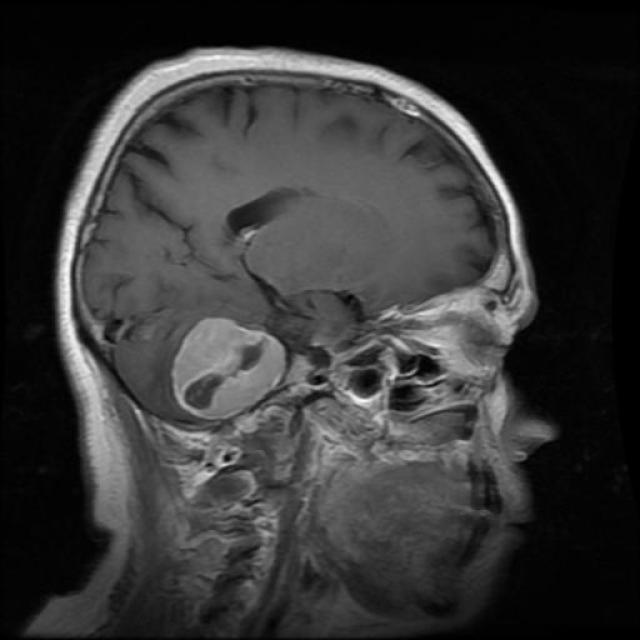meningioma: (171, 318, 290, 421)
